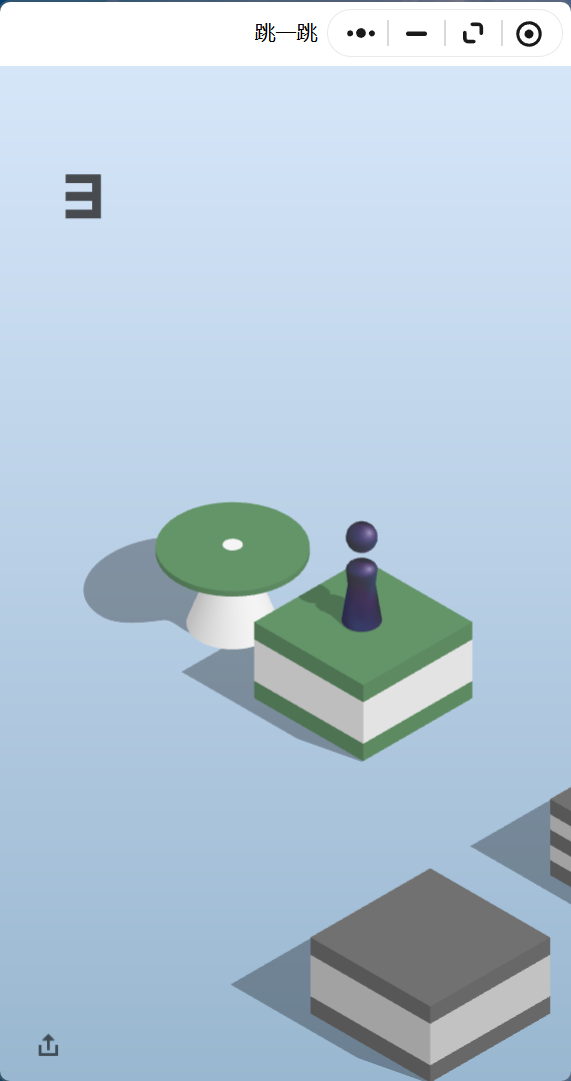piece: (347, 522, 377, 627)
target: (155, 502, 310, 590)
